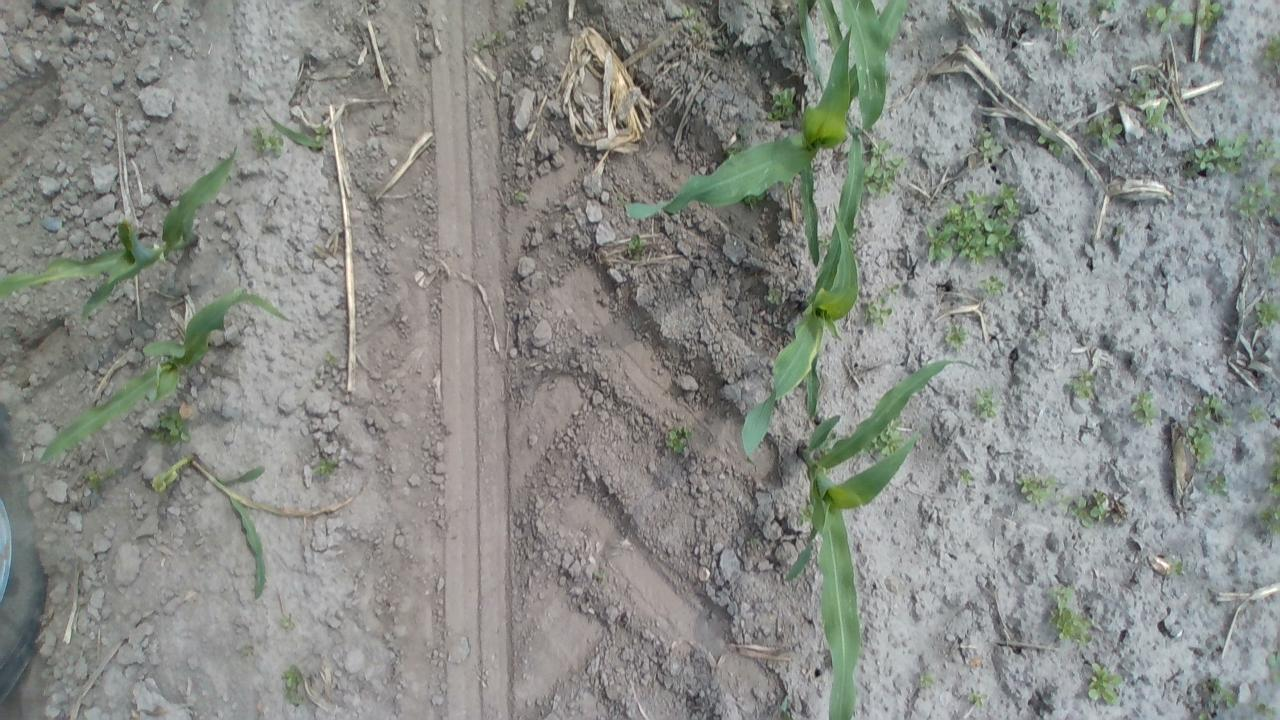Maize: (777, 351, 987, 720), (614, 0, 910, 231), (28, 287, 296, 465), (734, 121, 869, 459), (0, 140, 238, 328), (146, 450, 307, 600), (792, 0, 888, 139)
Weeds: (928, 182, 1028, 266), (1046, 582, 1093, 647), (864, 138, 905, 198), (1188, 134, 1248, 174), (1127, 84, 1169, 130), (1064, 490, 1114, 527), (1184, 417, 1220, 466), (1086, 663, 1126, 706), (1236, 180, 1276, 222), (150, 410, 194, 446), (1144, 1, 1196, 31), (1192, 391, 1234, 428), (1014, 470, 1057, 506), (866, 419, 905, 458), (1085, 114, 1125, 148), (78, 465, 122, 494), (252, 122, 285, 158), (1128, 390, 1159, 428), (1206, 674, 1237, 710), (766, 87, 798, 121), (281, 666, 306, 707), (864, 296, 894, 330), (973, 386, 1000, 422), (1030, 1, 1066, 28), (1068, 371, 1098, 400), (977, 131, 1006, 161), (1196, 0, 1224, 31), (663, 426, 691, 456), (1034, 130, 1066, 156), (469, 30, 504, 53), (1268, 435, 1280, 501), (1256, 502, 1278, 538), (312, 456, 342, 482), (942, 322, 969, 349), (1254, 298, 1278, 328), (1202, 474, 1230, 498), (981, 274, 1008, 298), (1262, 646, 1280, 681), (678, 6, 702, 31), (1255, 134, 1276, 162), (1261, 34, 1277, 69), (628, 230, 650, 254), (1250, 700, 1277, 718), (310, 124, 330, 148), (1060, 38, 1080, 61), (1245, 404, 1267, 424), (1168, 558, 1188, 579), (1090, 0, 1120, 14), (968, 688, 988, 708), (958, 465, 976, 486), (917, 670, 936, 689), (765, 284, 783, 304), (880, 283, 901, 300), (510, 185, 529, 202), (1264, 254, 1276, 280), (280, 613, 298, 630), (511, 0, 536, 12), (798, 504, 812, 524), (238, 642, 255, 658), (324, 349, 339, 367), (592, 568, 608, 583), (745, 536, 758, 554), (1194, 708, 1210, 718)
